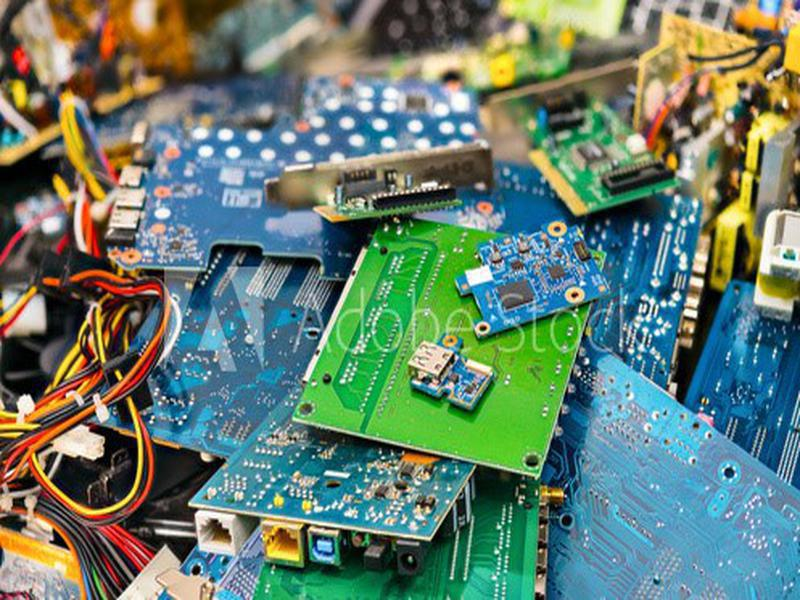circuit_board: (290, 217, 609, 479), (107, 73, 492, 274), (544, 341, 800, 600), (185, 419, 482, 566), (450, 217, 614, 341), (519, 124, 686, 214)
